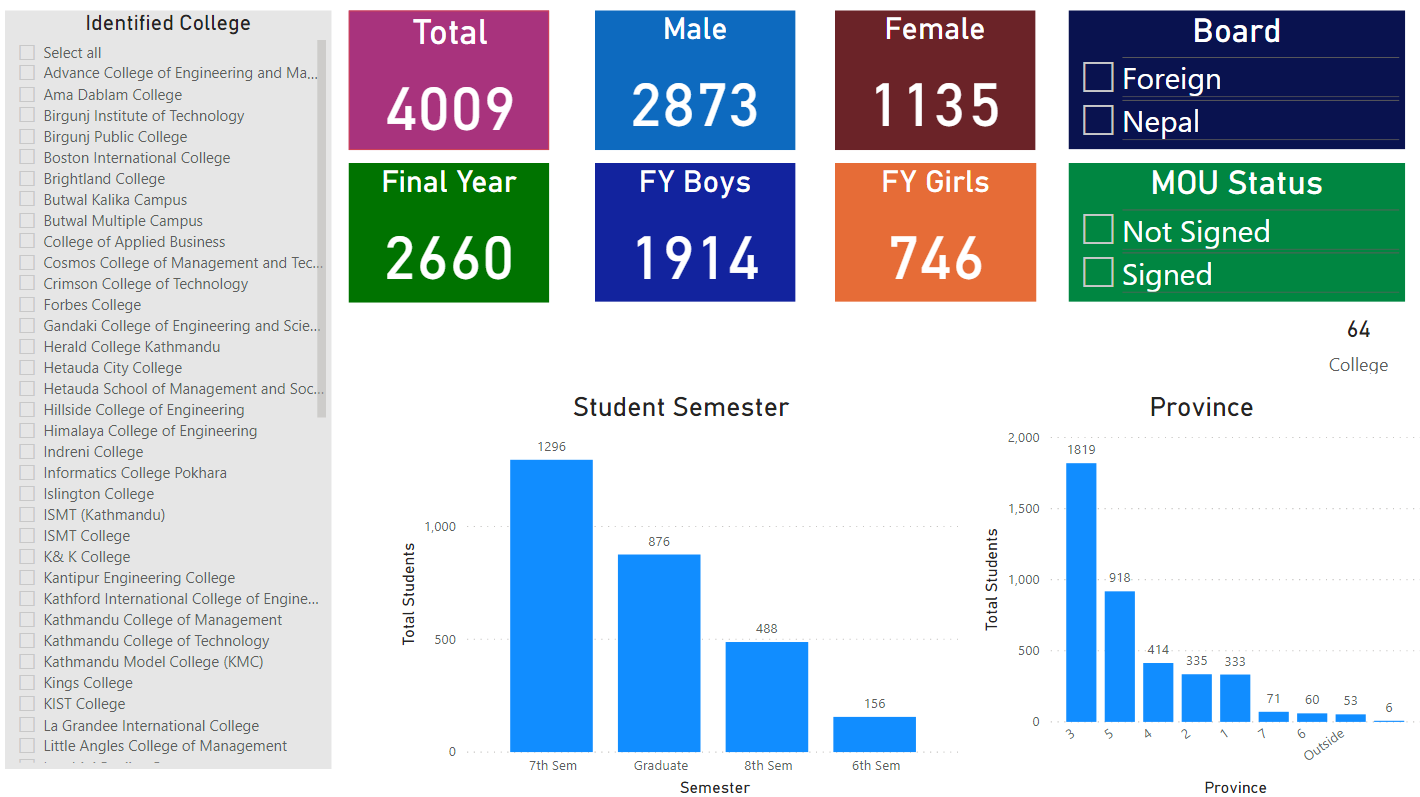

What the dashboard file says about the page in this screenshot:
{"tool":"powerbi","page":{"name":"MOU College","canvas":[1280,720],"ordinal":1},"visuals":[{"type":"slicer","title":"Identified College","fields":{"Values":["identifiedCollege (2).profile_field_collegename"]},"box":[9.3,11.6,292.1,678.4],"z":0},{"type":"card","title":"Total","fields":{"Values":["CountNonNull(user_latest.id)"]},"box":[316.5,11.6,179.2,124.5],"z":1000},{"type":"card","title":"Male","fields":{"Values":["CountNonNull(user_latest.profile_field_gender)"]},"box":[536.4,11.6,179.2,124.5],"z":2000},{"type":"card","title":"Female","fields":{"Values":["CountNonNull(user_latest.profile_field_gender)"]},"box":[751.7,11.6,179.2,124.5],"z":3000},{"type":"columnChart","title":"Student Semester","fields":{"Category":["user_latest.profile_field_Semester1"],"Y":["CountNonNull(user_latest.profile_field_Semester)1"]},"box":[356.4,351.5,513.9,368.5],"z":4000},{"type":"columnChart","title":"Province","fields":{"Category":["user_latest.profile_field_Province"],"Y":["CountNonNull(user_latest.profile_field_Province)"]},"box":[879,351.6,401,368.1],"z":5000},{"type":"slicer","title":"MOU Status","fields":{"Values":["identifiedCollege (2).status"]},"box":[960.4,147.6,300.7,124.1],"z":6000},{"type":"card","title":"Final Year","fields":{"Values":["CountNonNull(user_latest.id)"]},"box":[316.5,147.8,179.2,124.5],"z":7000},{"type":"card","title":"FY Boys","fields":{"Values":["CountNonNull(user_latest.profile_field_gender)"]},"box":[536.6,147.6,178.9,124.1],"z":8000},{"type":"card","title":"FY Girls","fields":{"Values":["CountNonNull(user_latest.profile_field_gender)"]},"box":[751.3,147.6,180,124.1],"z":9000},{"type":"slicer","title":"Board","fields":{"Values":["identifiedCollege (2).board"]},"box":[960.4,11.2,300.7,124.1],"z":10000},{"type":"card","fields":{"Values":["CountNonNull(identifiedCollege.profile_field_collegename)"]},"box":[1178.2,272.7,82.4,67.9],"z":11000}]}

Visuals, with their boxes in screenshot pixels (x1, y1, x2, y2), scaled from the page's 1280x720 canvas onto the 1420x797 screenshot:
"Identified College" slicer: Rect(10, 13, 334, 764)
"Total" card: Rect(351, 13, 550, 151)
"Male" card: Rect(595, 13, 794, 151)
"Female" card: Rect(834, 13, 1033, 151)
"Student Semester" columnChart: Rect(395, 389, 965, 796)
"Province" columnChart: Rect(975, 389, 1419, 796)
"MOU Status" slicer: Rect(1065, 163, 1399, 301)
"Final Year" card: Rect(351, 164, 550, 301)
"FY Boys" card: Rect(595, 163, 794, 301)
"FY Girls" card: Rect(833, 163, 1033, 301)
"Board" slicer: Rect(1065, 12, 1399, 150)
card - CountNonNull(identifiedCollege.profile_field_collegename): Rect(1307, 302, 1398, 377)
